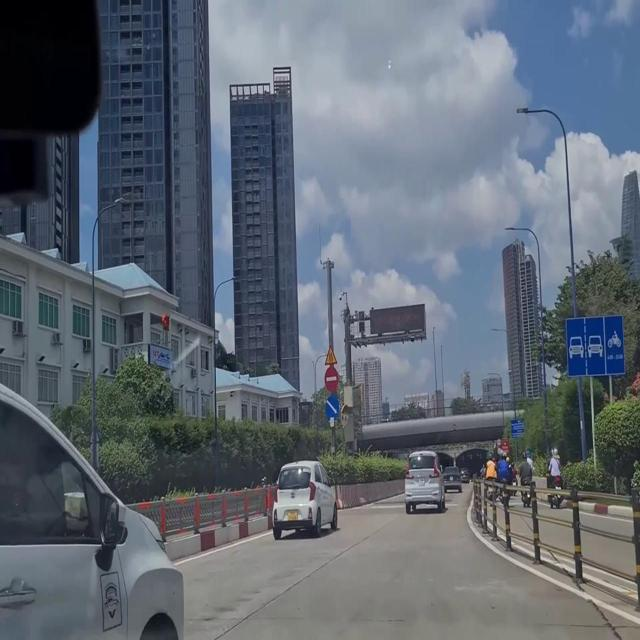Cấm đi ngược chiều: (318, 364, 340, 390)
Hướng phải đi vòng sang phải: (321, 395, 340, 417)
Khác: (507, 416, 532, 441)
Làn đường cho từng xe: (562, 312, 629, 381)
Đường hẹp: (321, 345, 341, 367)
